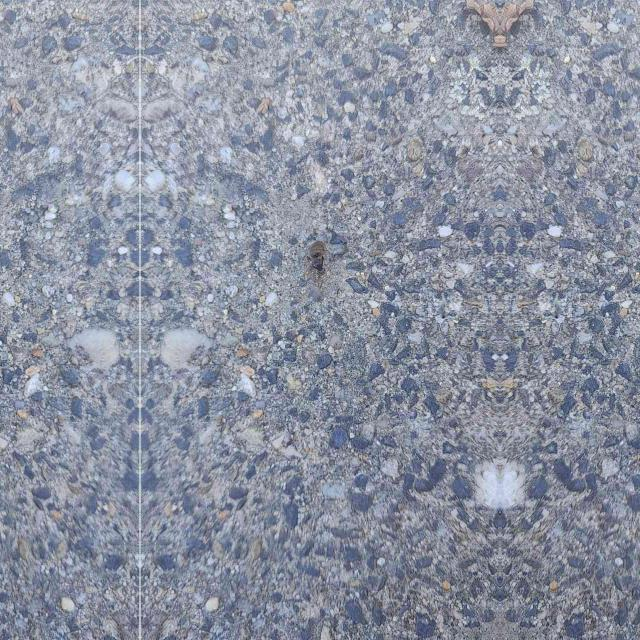Lasius: (305, 226, 327, 276)
